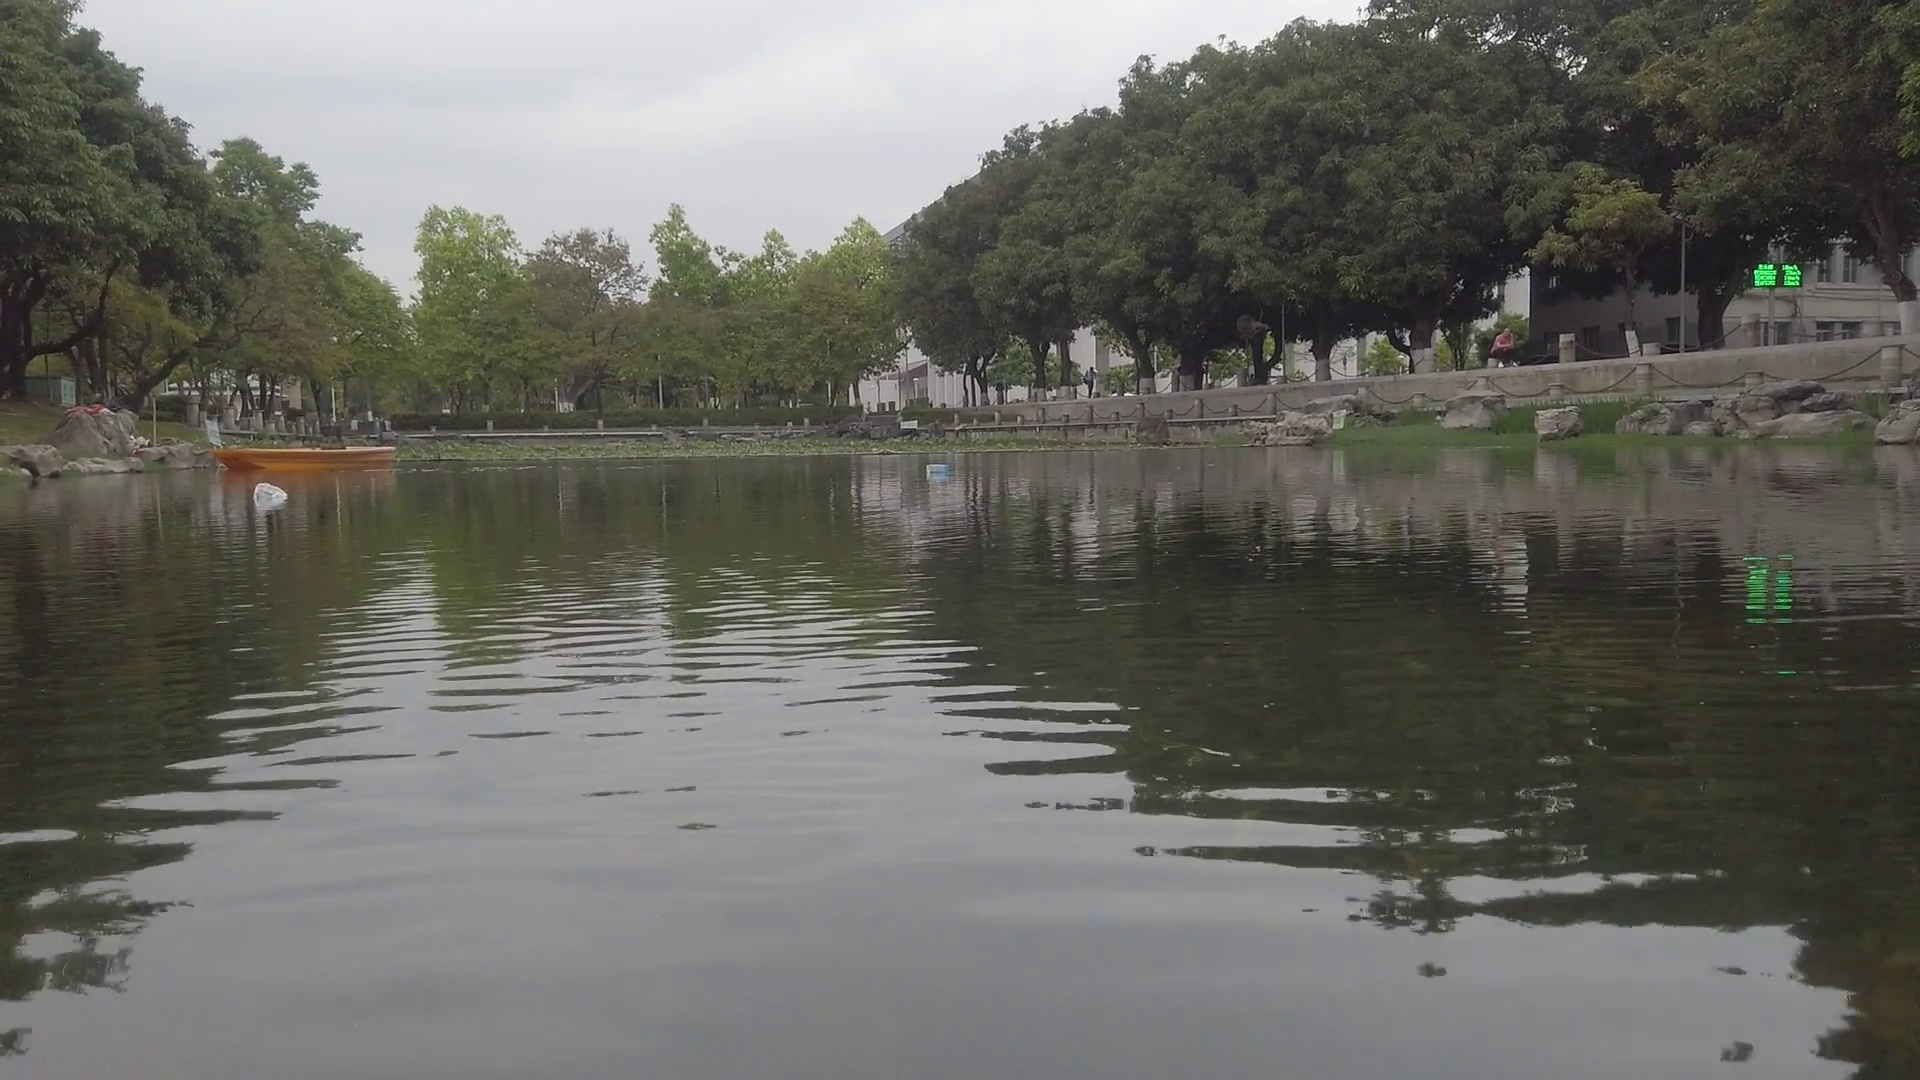carton: (927, 465, 949, 472)
plastic: (253, 483, 286, 509)
